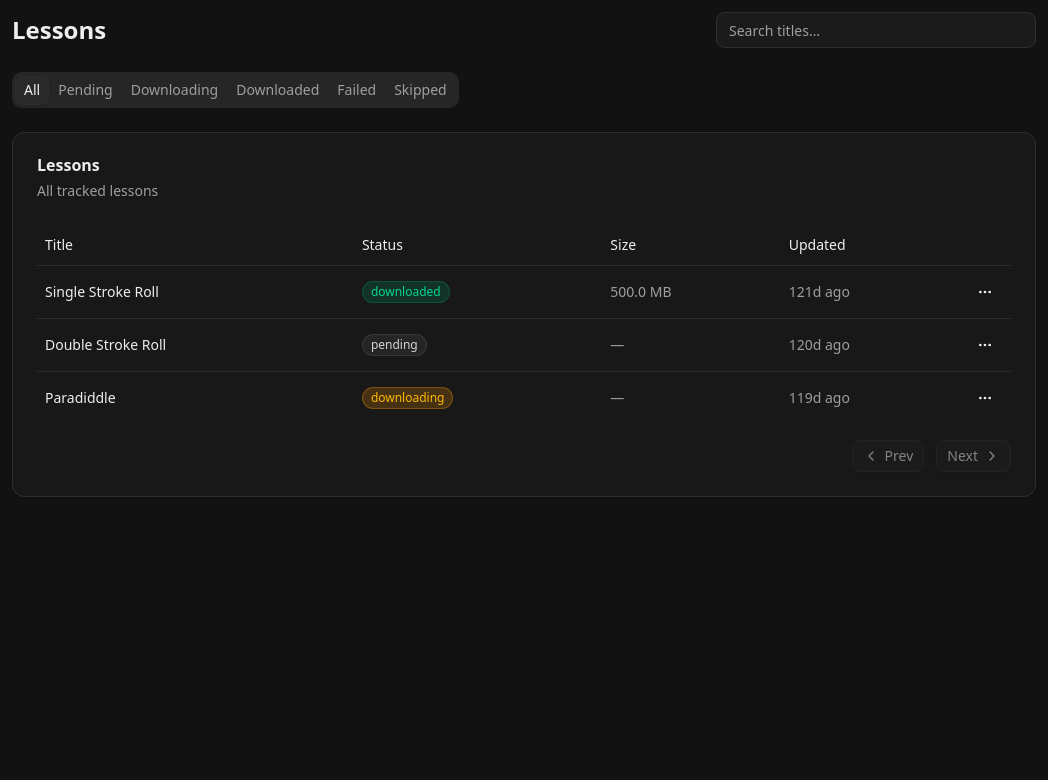
Test: shows 'Already queued' when download returns 200
Expected: the text "Double Stroke Roll" is shown, [37,318,354,371]
Click the button named "actions for double stroke roll": click(985, 344) [967,326,1003,362]
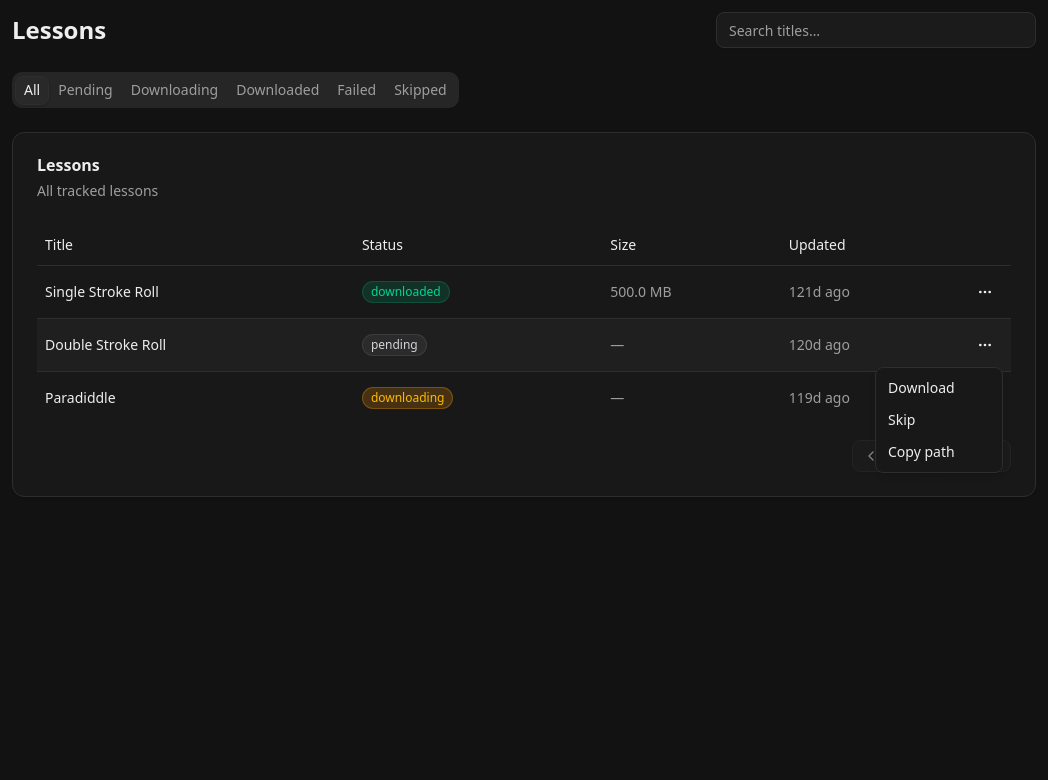
Click the menu item "Download": click(921, 388) [888,378,955,397]
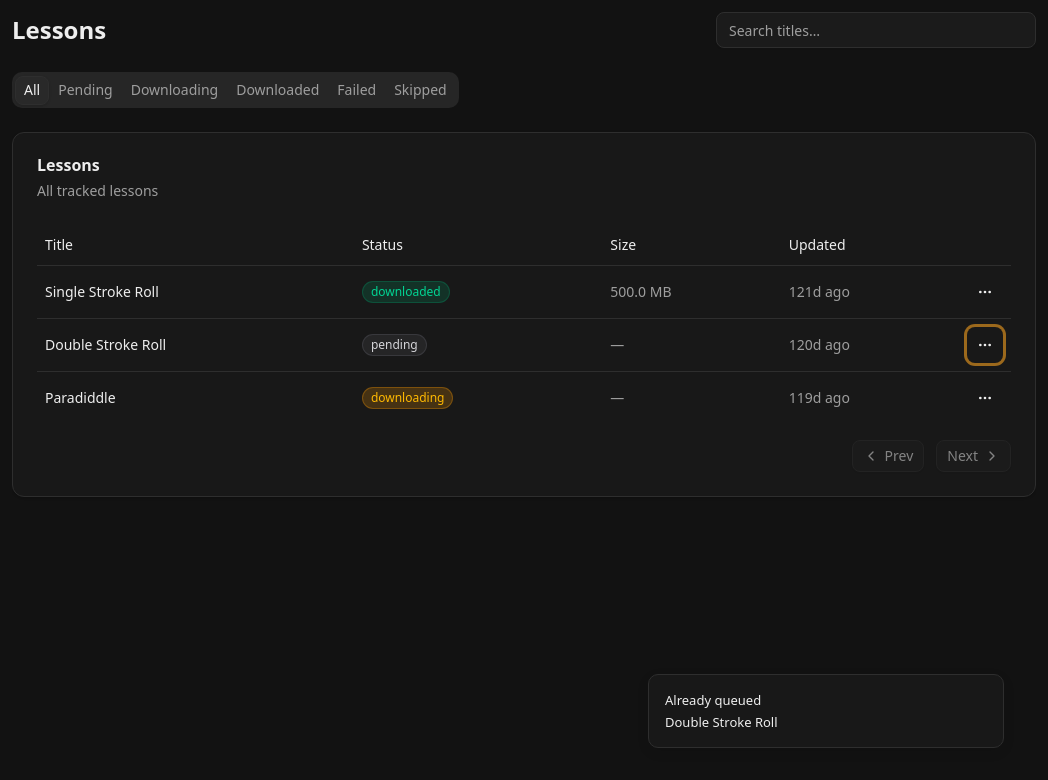
Result: the text "Already queued" is shown at [665,691,778,711]
